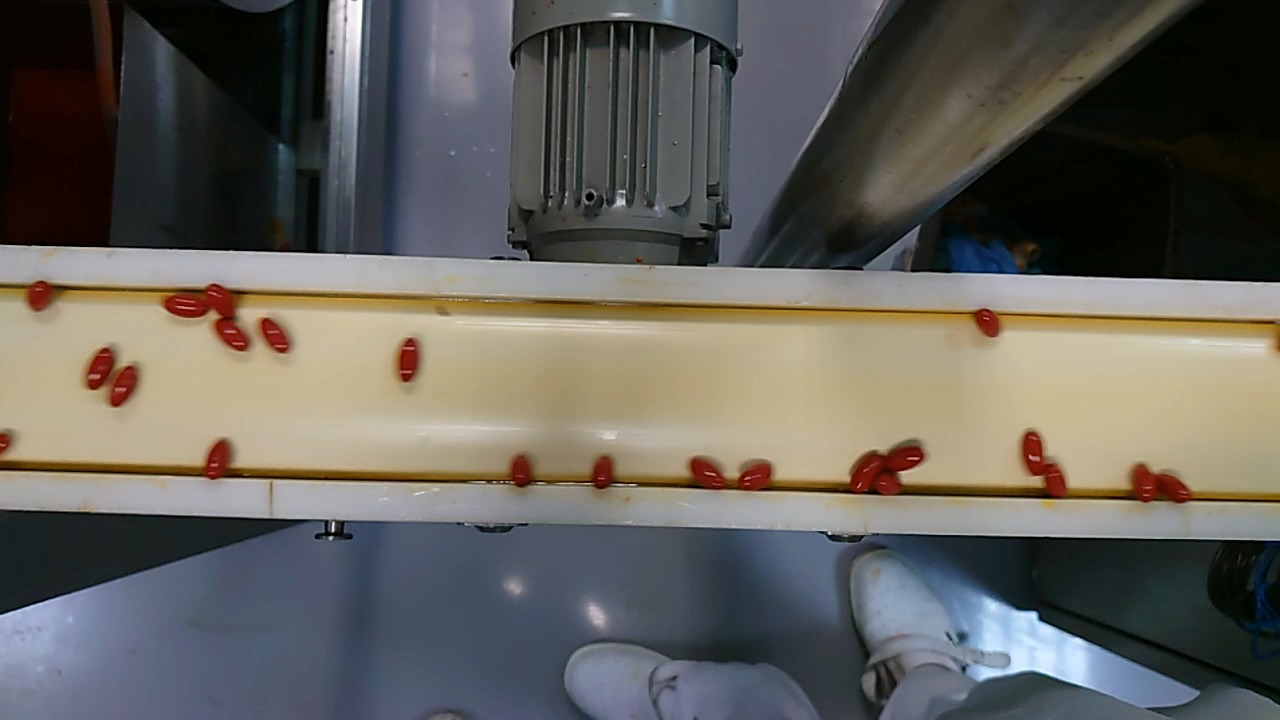pill: (1007, 422, 1055, 480), (384, 333, 432, 386), (75, 343, 123, 393), (254, 312, 302, 362), (1032, 456, 1080, 506), (195, 434, 243, 482), (498, 448, 546, 496), (20, 272, 68, 320), (159, 278, 207, 326), (99, 362, 147, 410), (572, 451, 620, 499), (680, 451, 728, 499), (730, 447, 778, 495), (961, 298, 1009, 346), (842, 446, 890, 494), (883, 428, 931, 476), (865, 460, 913, 508), (1117, 460, 1165, 508), (1150, 462, 1198, 510), (207, 312, 255, 360), (198, 285, 246, 321)
